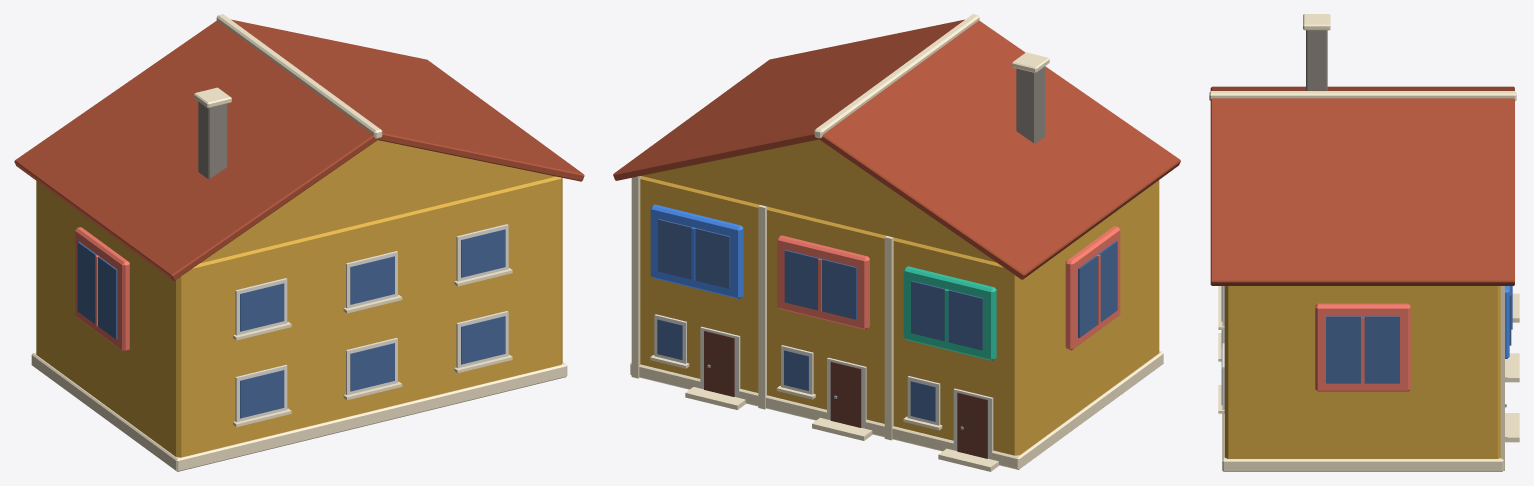
File: bld_d2_b.glb
3 views of the same model, side by side, from view 1: azimuth 30°, elevation 25°; view 2: azimuth 150°, elevation 25°; view 3: azimuth 270°, elevation 25° (orthographic). The views are drawn at different scales.
Parts seen in each view (by area): view 1: bld_d2_b; view 2: bld_d2_b; view 3: bld_d2_b.
Boxes of the visible parts, x1,y1,x2,y2 form: bld_d2_b: (14, 14, 584, 471); bld_d2_b: (613, 14, 1180, 471); bld_d2_b: (1209, 14, 1519, 471).
Bounding box in the file's own units: 14.97 × 11.18 × 10.1.
